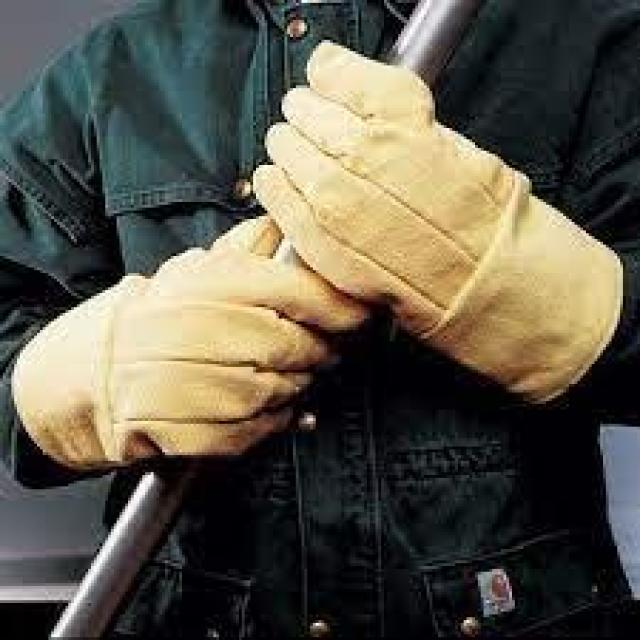Gloves: (253, 36, 627, 421), (13, 209, 361, 472)
Person: (0, 0, 637, 637)
